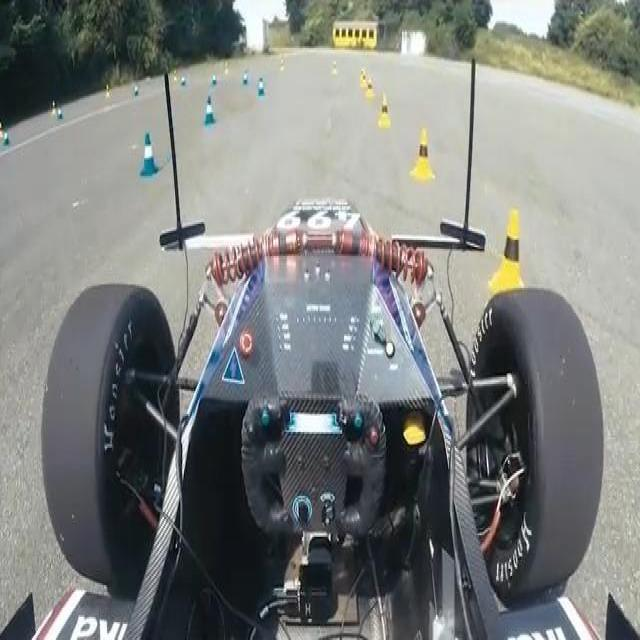blue_cone: (139, 132, 161, 179), (203, 94, 217, 127)
yellow_cone: (488, 208, 526, 307), (409, 128, 436, 181), (378, 92, 393, 128)
